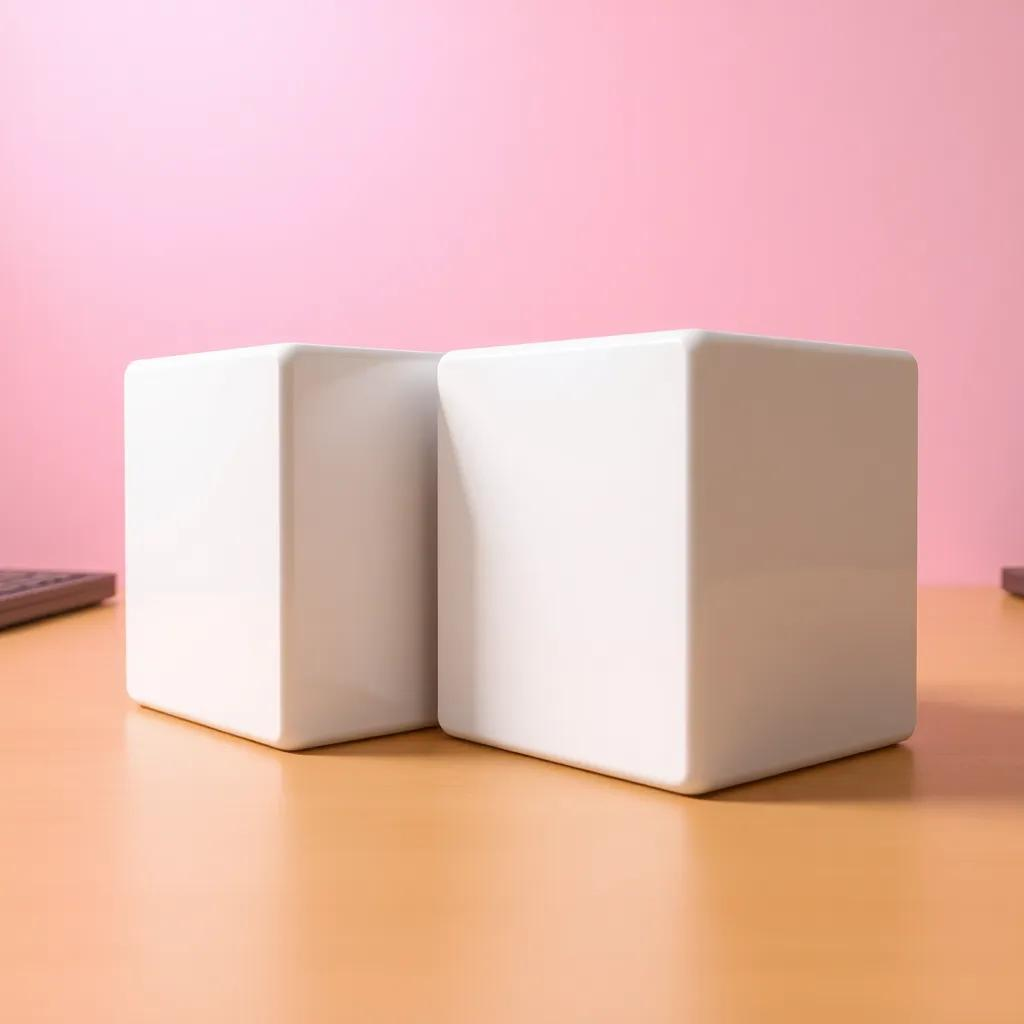cube: (434, 326, 918, 796), (122, 340, 442, 751)
